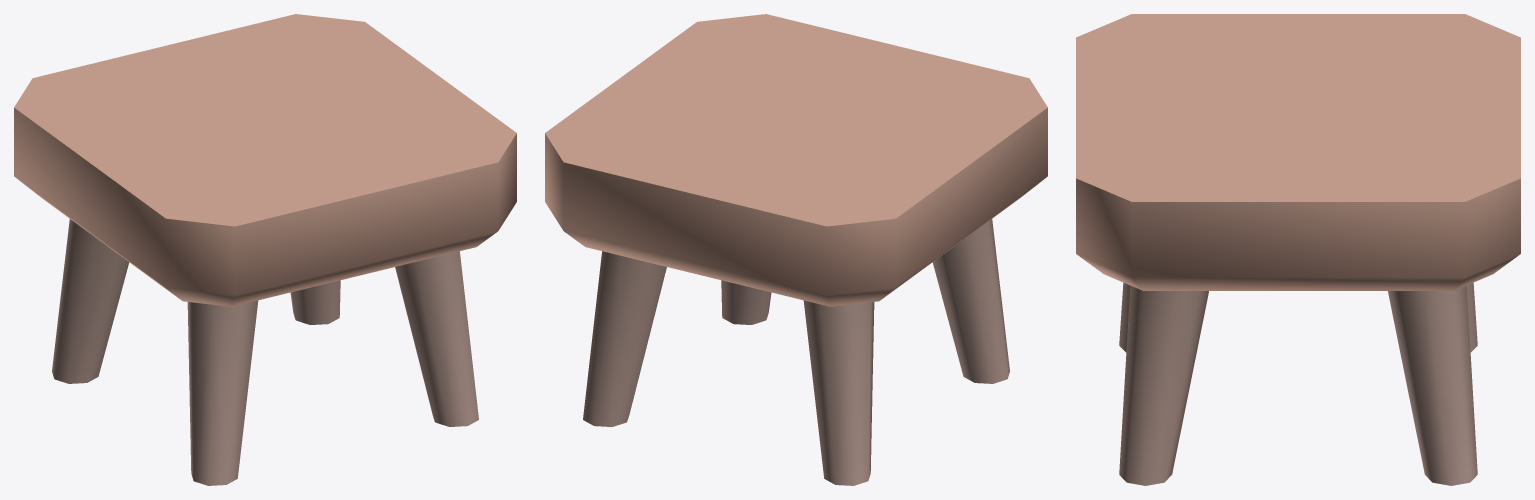
The model's file is wooden-stool.glb.
3 views of the same model, side by side, from view 1: azimuth 30°, elevation 25°; view 2: azimuth 150°, elevation 25°; view 3: azimuth 270°, elevation 25° (orthographic). The views are drawn at different scales.
Visible parts, largest first — view 1: wooden-stool; view 2: wooden-stool; view 3: wooden-stool.
Boxes of the visible parts, x1,y1,x2,y2 form: wooden-stool: (14, 14, 516, 485); wooden-stool: (545, 14, 1047, 485); wooden-stool: (1076, 14, 1520, 485).
Bounding box in the file's own units: 0.4 × 0.3 × 0.4.
